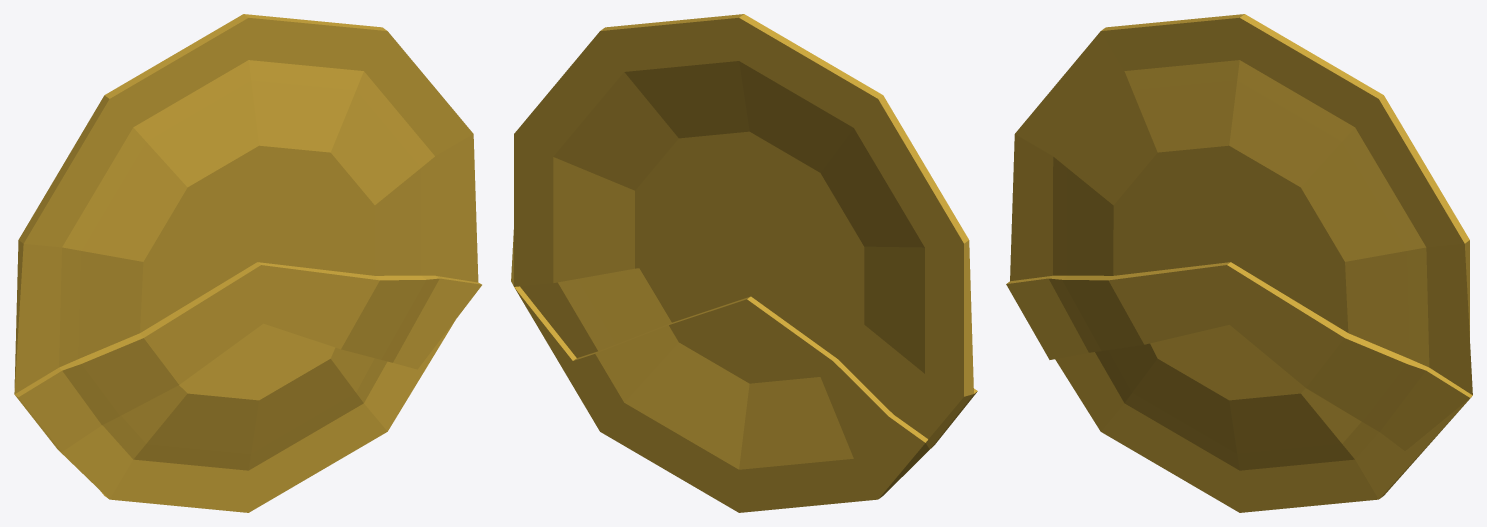
Rendered from Spartan Shield.fbx.
The picture shows the model from 3 angles, left to right: view 1: azimuth 30°, elevation 25°; view 2: azimuth 150°, elevation 25°; view 3: azimuth 330°, elevation 25°; orthographic projection.
Visible parts, largest first — view 1: Spartan Shield; view 2: Spartan Shield; view 3: Spartan Shield.
Boxes of the visible parts, bbox=[...] form: Spartan Shield: bbox=[14, 14, 481, 512]; Spartan Shield: bbox=[511, 14, 977, 512]; Spartan Shield: bbox=[1006, 14, 1472, 512].
Size of the model in its own units: 156 by 159 by 10.68.
